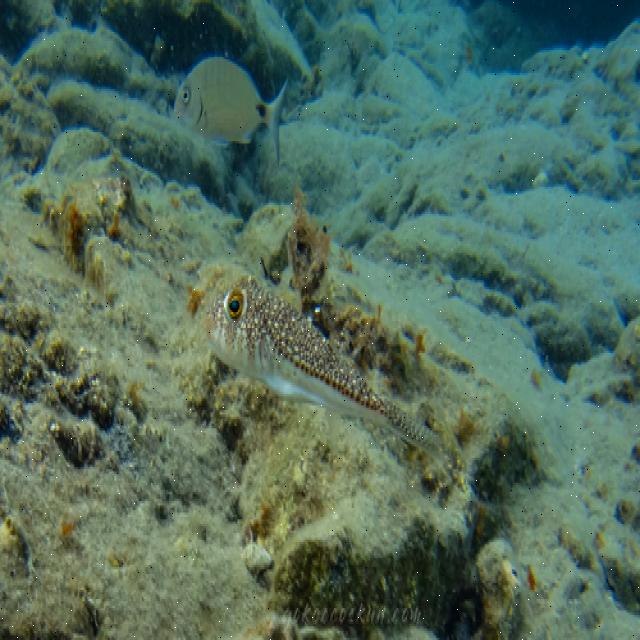Balik: (208, 278, 432, 448), (175, 57, 286, 163)
